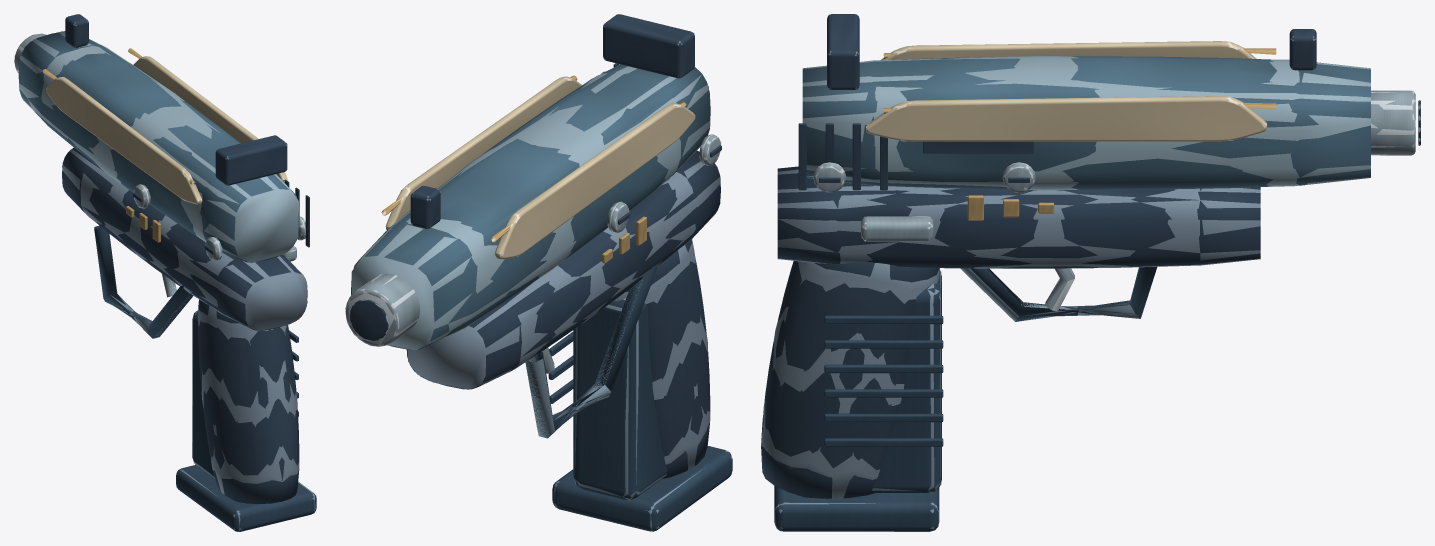
The model's file is anime-fiveseven.glb.
3 renders of one model, left to right at view 1: azimuth 30°, elevation 25°; view 2: azimuth 150°, elevation 25°; view 3: azimuth 270°, elevation 25°, orthographic. The views are drawn at different scales.
Visible parts, largest first — view 1: weapon_Polymer, slide_Weapon finish / Polymer, World hardware, World paint, slide_Weapon finish / Ivory enamel, magazine_Parkerized steel, slide_Polymer, weapon_Parkerized steel, weapon_Machined edges, weapon_Etched brass detail; view 2: slide_Weapon finish / Polymer, weapon_Polymer, magazine_Parkerized steel, World hardware, World paint, slide_Weapon finish / Ivory enamel, slide_Polymer, weapon_Parkerized steel, weapon_Machined edges, weapon_Etched brass detail; view 3: weapon_Polymer, slide_Weapon finish / Polymer, World hardware, slide_Weapon finish / Ivory enamel, World paint, magazine_Parkerized steel, weapon_Parkerized steel, weapon_Machined edges, slide_Polymer, weapon_Etched brass detail.
Boxes of the visible parts, <box> form: weapon_Polymer: <box>62,147,307,503</box>; slide_Weapon finish / Polymer: <box>18,31,299,262</box>; World hardware: <box>14,14,316,531</box>; World paint: <box>19,31,298,262</box>; slide_Weapon finish / Ivory enamel: <box>46,56,287,204</box>; magazine_Parkerized steel: <box>176,311,316,531</box>; slide_Polymer: <box>65,14,309,247</box>; weapon_Parkerized steel: <box>94,225,298,416</box>; weapon_Machined edges: <box>14,34,305,261</box>; weapon_Etched brass detail: <box>126,206,160,242</box>; slide_Weapon finish / Polymer: <box>351,64,710,349</box>; weapon_Polymer: <box>349,145,721,478</box>; magazine_Parkerized steel: <box>552,299,732,531</box>; World hardware: <box>345,14,731,531</box>; World paint: <box>351,64,710,350</box>; slide_Weapon finish / Ivory enamel: <box>386,76,695,259</box>; slide_Polymer: <box>410,14,694,228</box>; weapon_Parkerized steel: <box>525,266,657,438</box>; weapon_Machined edges: <box>345,134,720,346</box>; weapon_Etched brass detail: <box>602,216,646,263</box>; weapon_Polymer: <box>761,100,1420,498</box>; slide_Weapon finish / Polymer: <box>802,56,1370,189</box>; World hardware: <box>761,14,1420,531</box>; slide_Weapon finish / Ivory enamel: <box>866,41,1267,141</box>; World paint: <box>802,41,1370,190</box>; magazine_Parkerized steel: <box>774,270,941,531</box>; weapon_Parkerized steel: <box>824,266,1157,446</box>; weapon_Machined edges: <box>813,90,1415,241</box>; slide_Polymer: <box>798,14,1316,190</box>; weapon_Etched brass detail: <box>967,195,1054,220</box>.
Size of the model in its own units: 0.0575 by 0.194 by 0.2439.
Materials: 8 (6 with a texture image).
